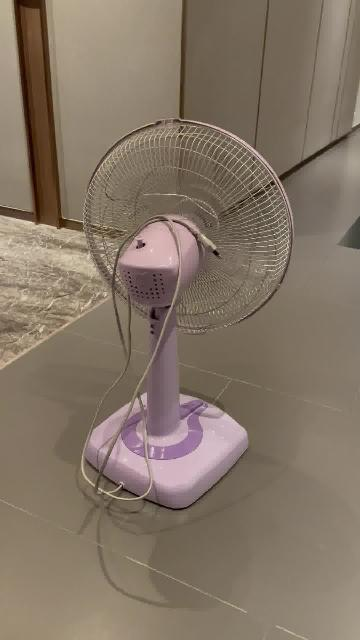Fan: (84, 119, 295, 512)
